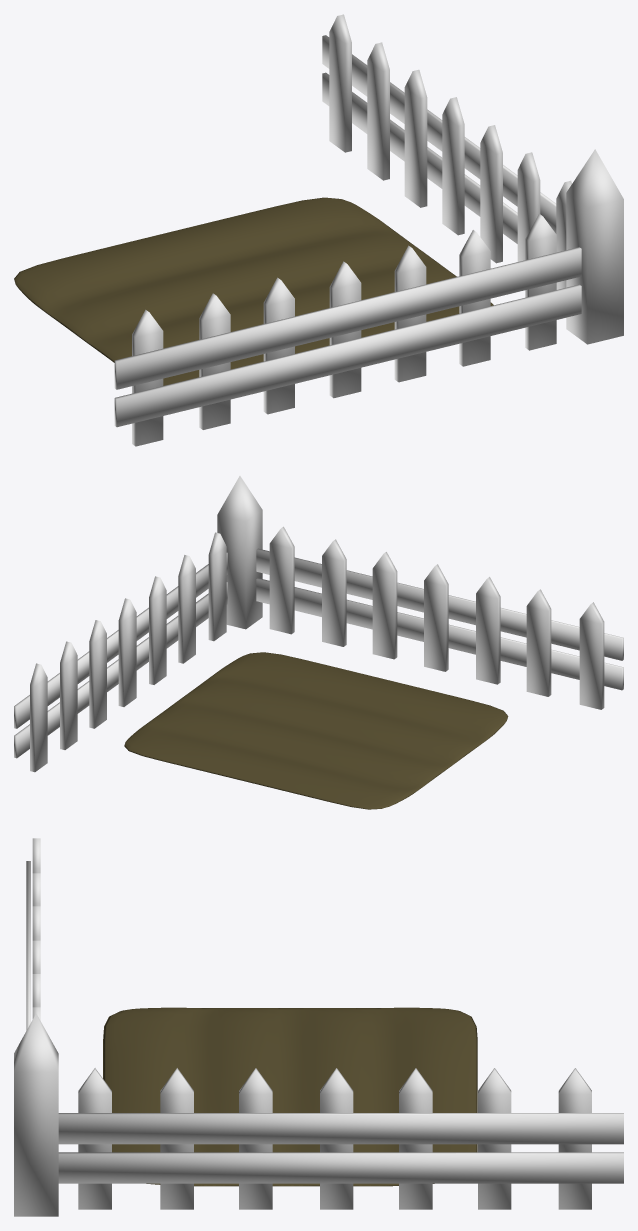
Rendered from garden plot.fbx.
3 views of the same model, one above another, from view 1: azimuth 30°, elevation 25°; view 2: azimuth 150°, elevation 25°; view 3: azimuth 270°, elevation 25° (orthographic). The views are drawn at different scales.
Visible parts, largest first — view 1: Garden; view 2: Garden; view 3: Garden.
Boxes of the visible parts, box(x1,y1,x2,y2) form: Garden: box(14, 14, 623, 446); Garden: box(14, 476, 623, 809); Garden: box(14, 838, 623, 1216).
Bounding box in the file's own units: 649 × 230 × 647.
